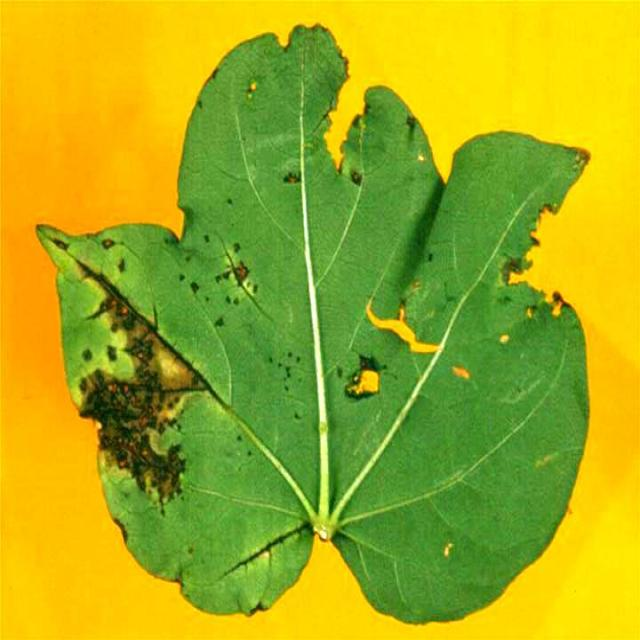Bacterial Blight: (62, 262, 222, 508)
